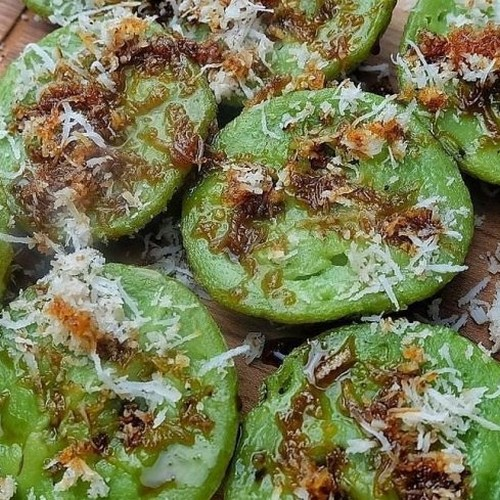laklak: (7, 1, 500, 498)
